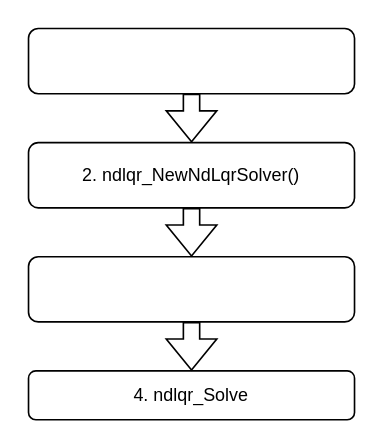
Image size: 383x448. Some labels were removed from this diagram. The box of each missing label's shape, as (x1, y1, x2, y2) in pixels:
1. ndlqr_ReadLQRProblemJSONFile(): (27, 27, 355, 94)
3. ndlqr_InitializeWithLQRProblem(): (27, 255, 355, 322)
